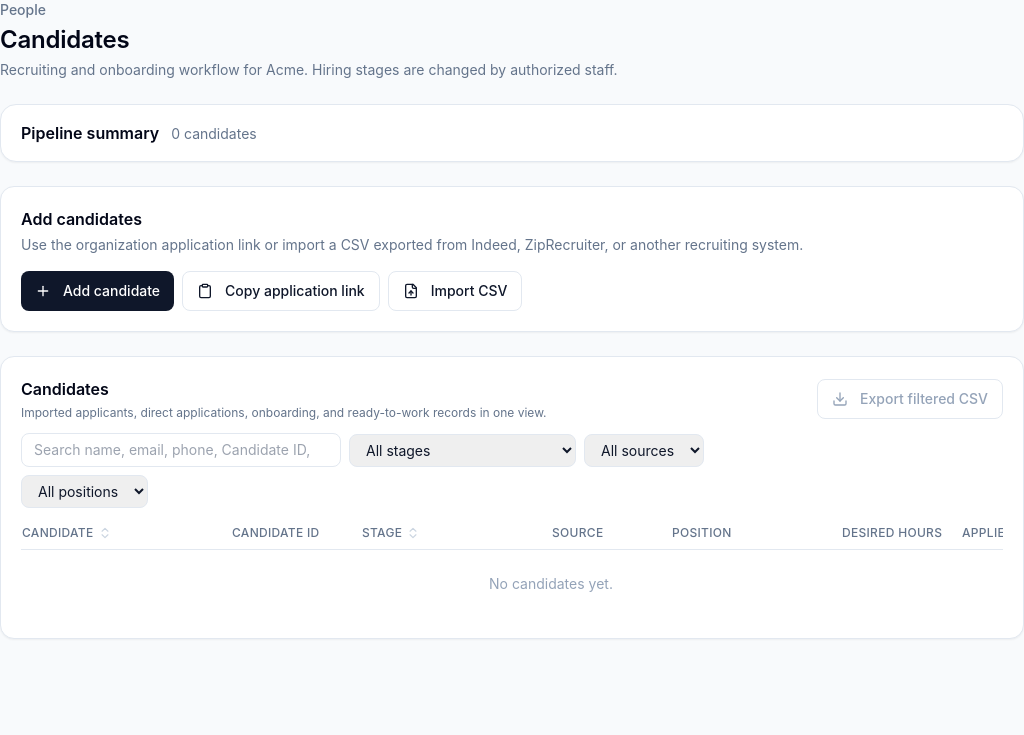
Test case: Manual candidate creation › shows a clear error message when candidate creation fails, instead of failing silently
Check: the text "No candidates yet." is shown, box [21,550,1003,618]
Step 1. Click the button "Add candidate" → [98, 291], box [21,271,174,311]
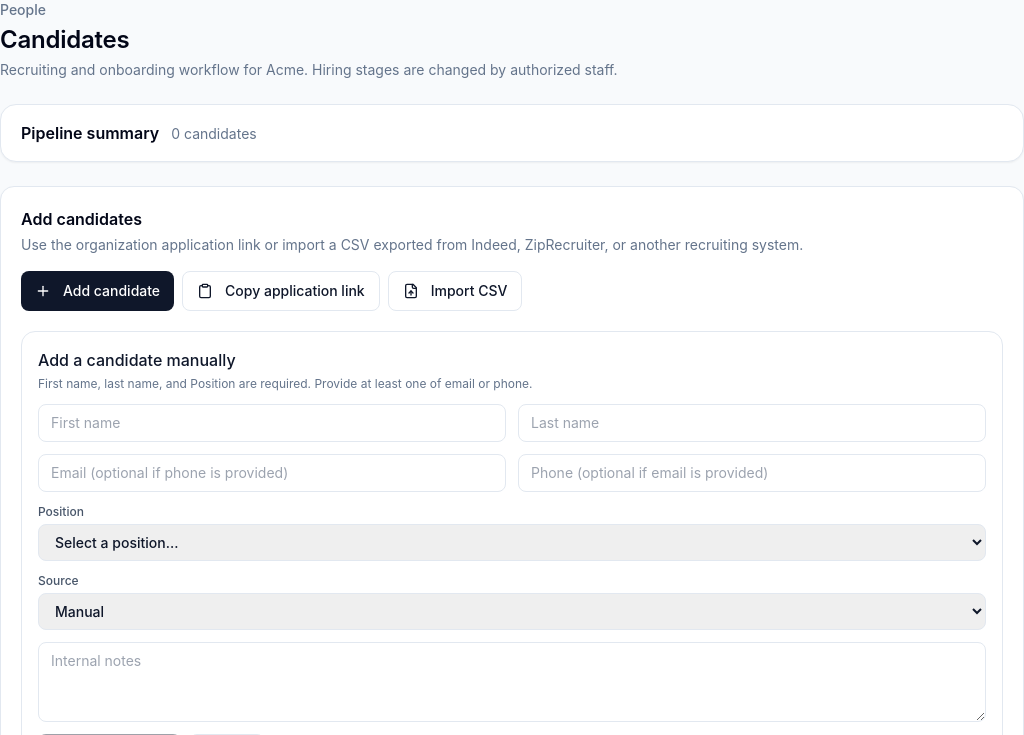
Check: the heading "Add a candidate manually" is shown, box [38,350,236,370]
Step 2. Type "Pat" into the field labelled "First name" → [272, 423], box [38,404,506,442]
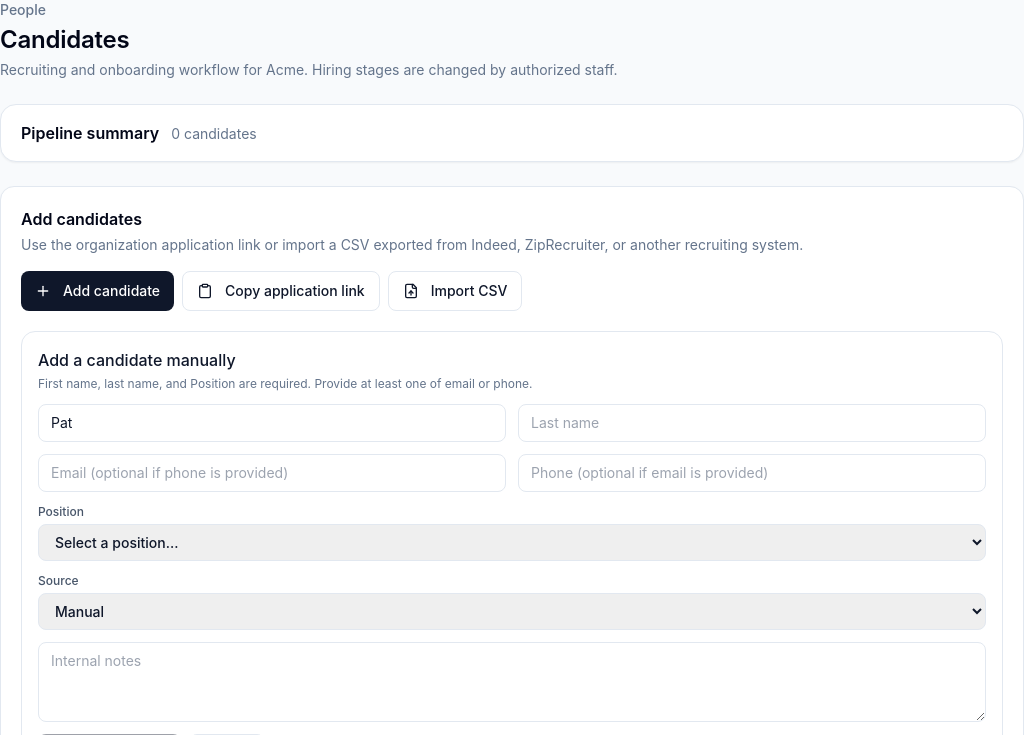
Step 3. Type "WalkIn" into the field labelled "Last name" → [752, 423], box [518,404,986,442]
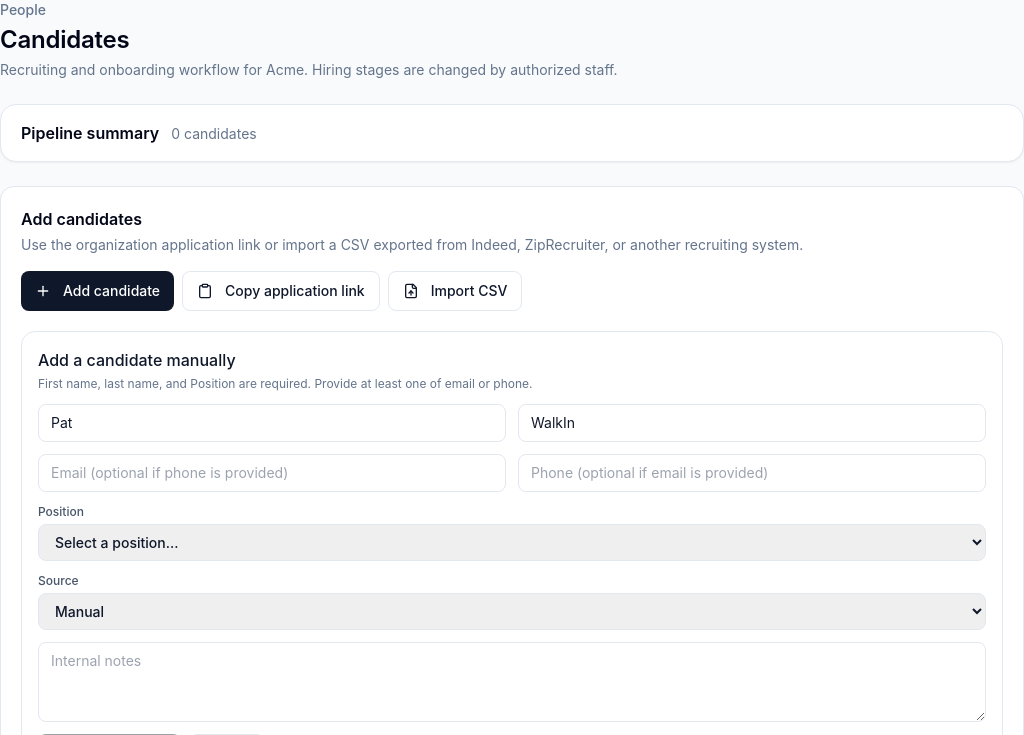
Step 4. Type "555-111-2222" into the field labelled "Phone" → [752, 473], box [518,454,986,492]
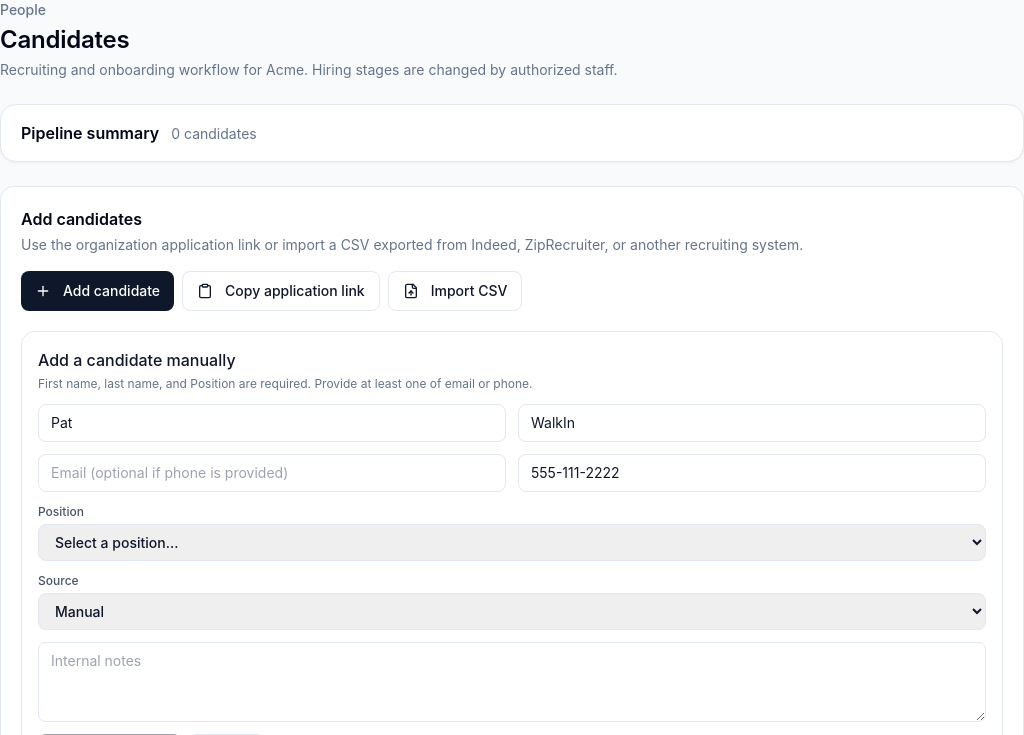
Step 5. Select "Caregiver" in the dropdown labelled "Position" → [512, 542], box [38,524,986,561]
(page scrolled)
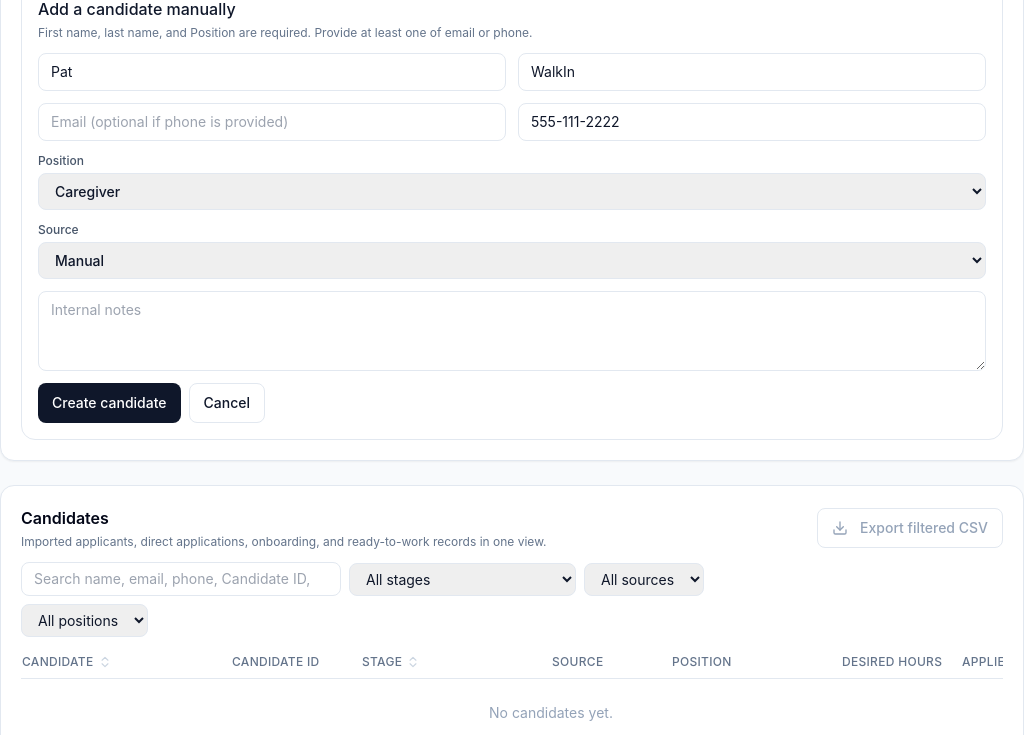
Step 6. Click the button "Create candidate" → [109, 403], box [38,383,180,423]
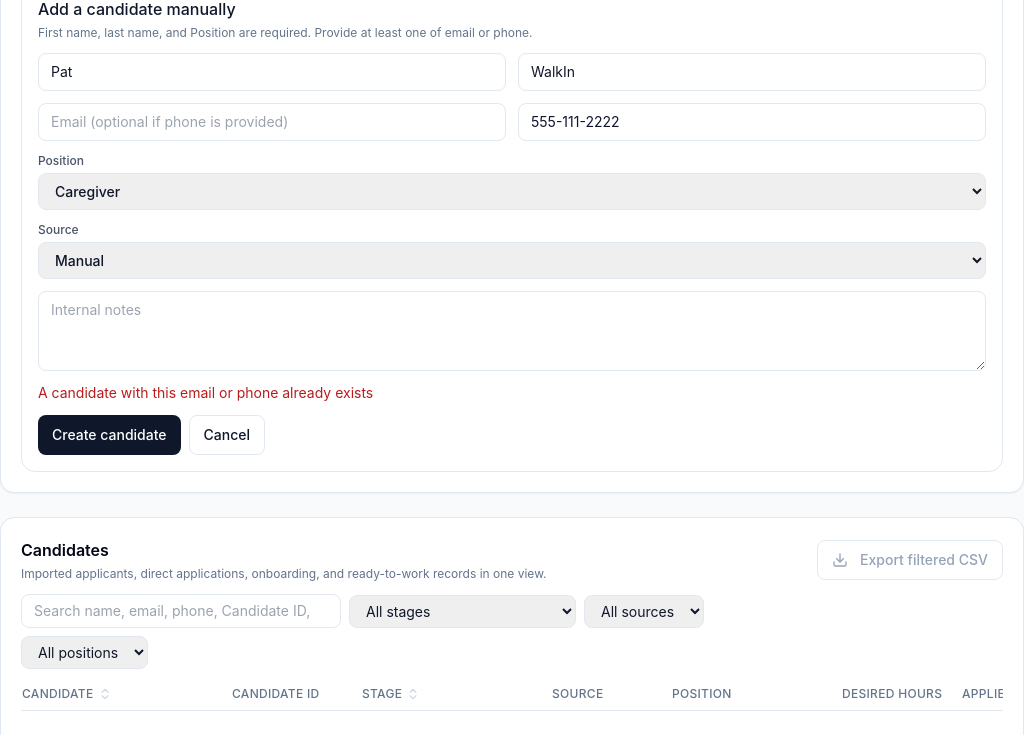
Check: the text "A candidate with this email or phone already exists" is shown, box [38,384,373,401]
